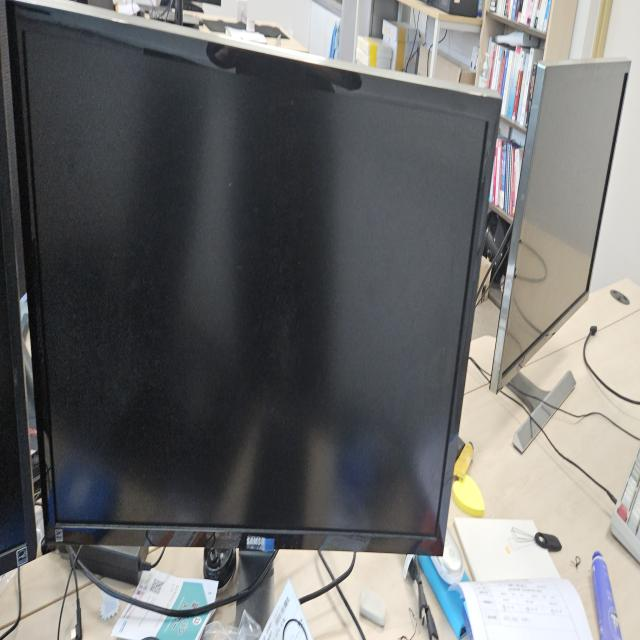Monitor: (6, 2, 503, 581)
